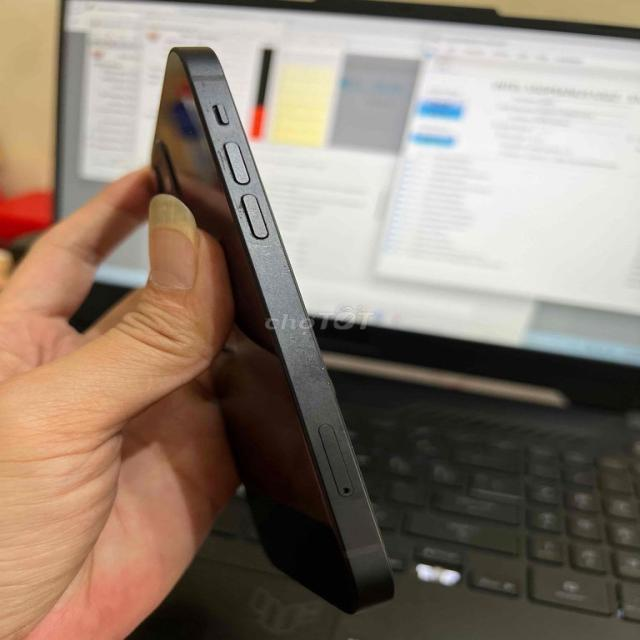gen_12_13: (140, 41, 403, 614)
